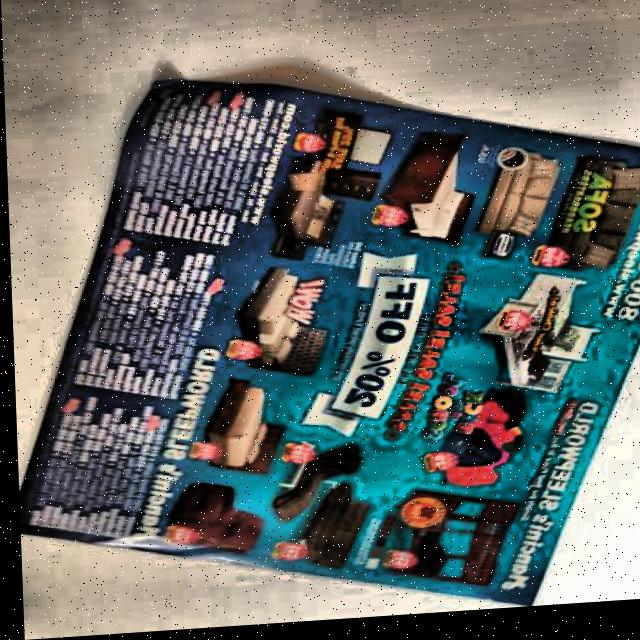paper: (3, 43, 640, 640)
